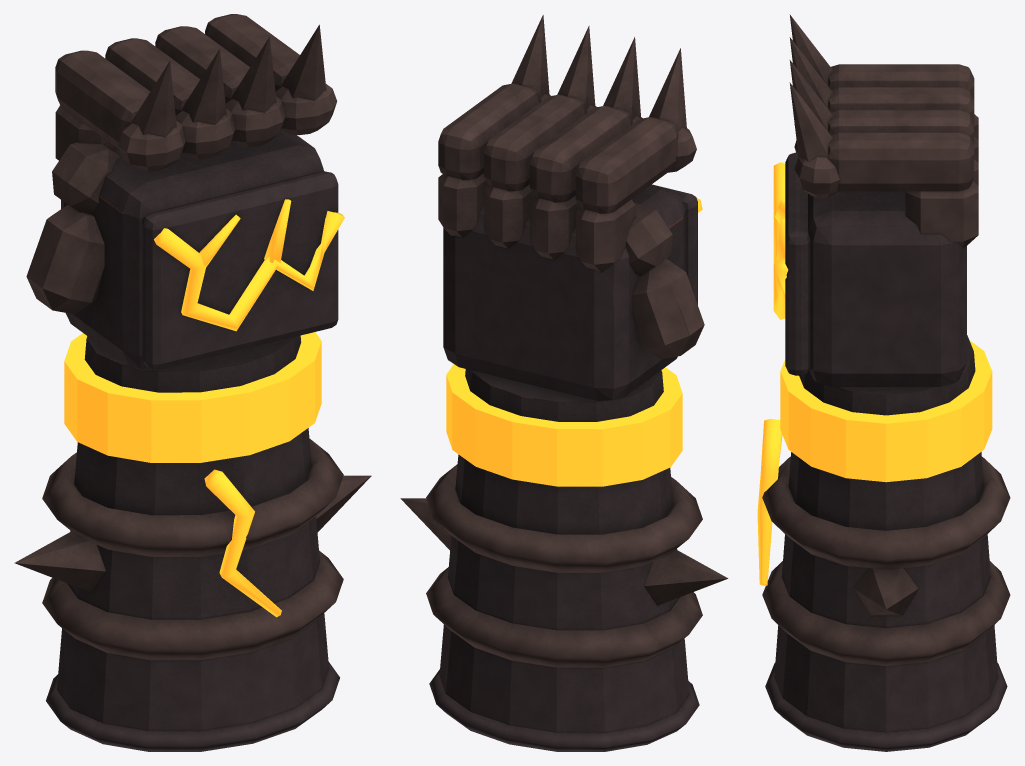
File: 06_volcano_gauntlet.fbx
3 renders of one model, left to right at view 1: azimuth 30°, elevation 25°; view 2: azimuth 150°, elevation 25°; view 3: azimuth 270°, elevation 25°, orthographic. The views are drawn at different scales.
Visible parts, largest first — view 1: Weapon; view 2: Weapon; view 3: Weapon.
Part boxes in pixels (x1=…): Weapon: x1=14, y1=14, x2=371, y2=751; Weapon: x1=400, y1=15, x2=728, y2=751; Weapon: x1=757, y1=14, x2=1010, y2=751.
Size of the model in its own units: 27.13 by 50.4 by 17.83.
2 materials, 1 textured.
